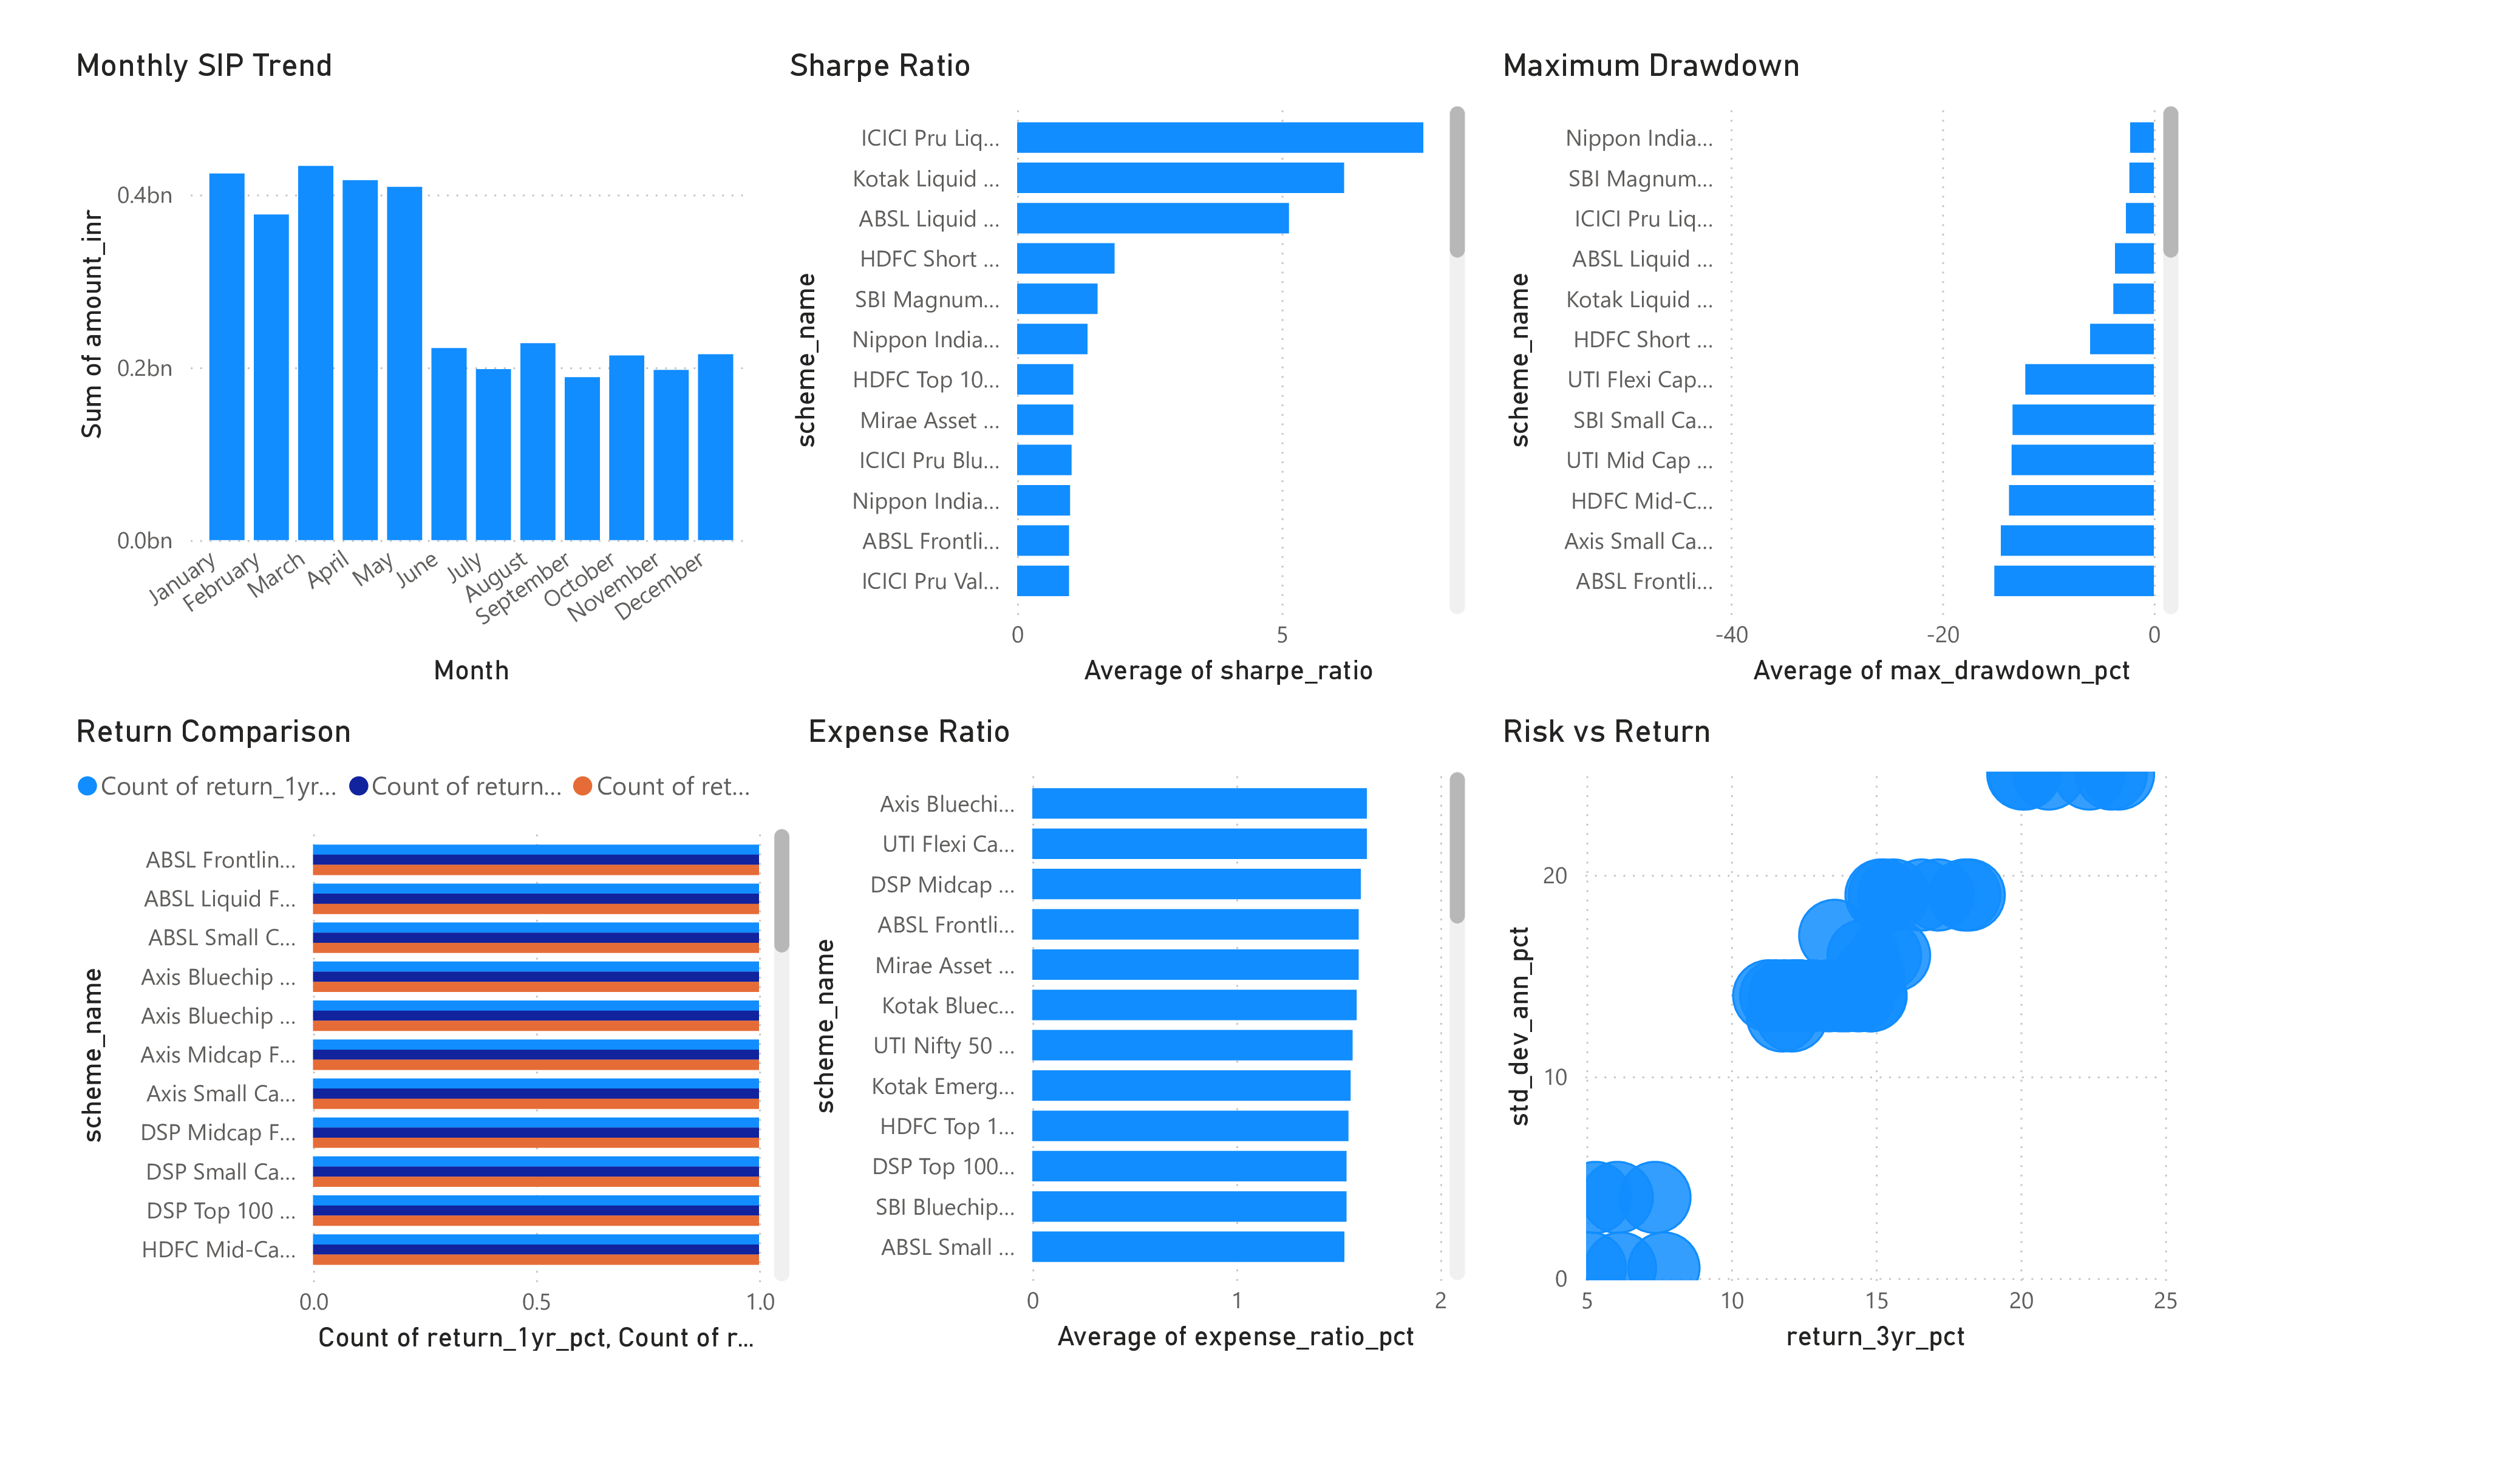

The page's visual inventory and layout, read from the dashboard file:
{"tool":"powerbi","page":{"name":"Market & Fund Trends","canvas":[1280,720],"ordinal":3},"visuals":[{"type":"columnChart","title":"Monthly SIP Trend","fields":{"Category":["investor_transactions_cleaned.transaction_date.Variation.Date Hierarchy.Month"],"Y":["Sum(investor_transactions_cleaned.amount_inr)"]},"box":[10.9,0,366.3,342.4],"z":0},{"type":"clusteredBarChart","title":"Return Comparison","fields":{"Category":["scheme_performance_cleaned.scheme_name"],"Y":["CountNonNull(scheme_performance_cleaned.return_1yr_pct)","CountNonNull(scheme_performance_cleaned.return_3yr_pct)","CountNonNull(scheme_performance_cleaned.return_5yr_pct)"]},"box":[10.9,351.1,386,342.4],"z":1},{"type":"barChart","title":"Sharpe Ratio","fields":{"Y":["Avg(scheme_performance_cleaned.sharpe_ratio)"],"Category":["scheme_performance_cleaned.scheme_name"]},"box":[387,0,366,342],"z":2},{"type":"barChart","title":"Expense Ratio","fields":{"Category":["scheme_performance_cleaned.scheme_name"],"Y":["Avg(scheme_performance_cleaned.expense_ratio_pct)"]},"box":[397,351,356,342],"z":3},{"type":"barChart","title":"Maximum Drawdown","fields":{"Category":["scheme_performance_cleaned.scheme_name"],"Y":["Avg(scheme_performance_cleaned.max_drawdown_pct)"]},"box":[763,0,366,342],"z":4},{"type":"scatterChart","title":"Risk vs Return","fields":{"X":["scheme_performance_cleaned.return_3yr_pct"],"Y":["scheme_performance_cleaned.std_dev_ann_pct"],"Size":["Sum(aum_history.aum_crore)"]},"box":[763,351,366,342],"z":5}]}

Visuals, with their boxes on the page's 1280x720 design canvas (x1, y1, x2, y2). These are canvas units, not pixel positions in the 2520x1457 screenshot, which may show the page scaled, cropped or inside an application window:
"Monthly SIP Trend" columnChart: box=[11, 0, 377, 342]
"Return Comparison" clusteredBarChart: box=[11, 351, 397, 694]
"Sharpe Ratio" barChart: box=[387, 0, 753, 342]
"Expense Ratio" barChart: box=[397, 351, 753, 693]
"Maximum Drawdown" barChart: box=[763, 0, 1129, 342]
"Risk vs Return" scatterChart: box=[763, 351, 1129, 693]
